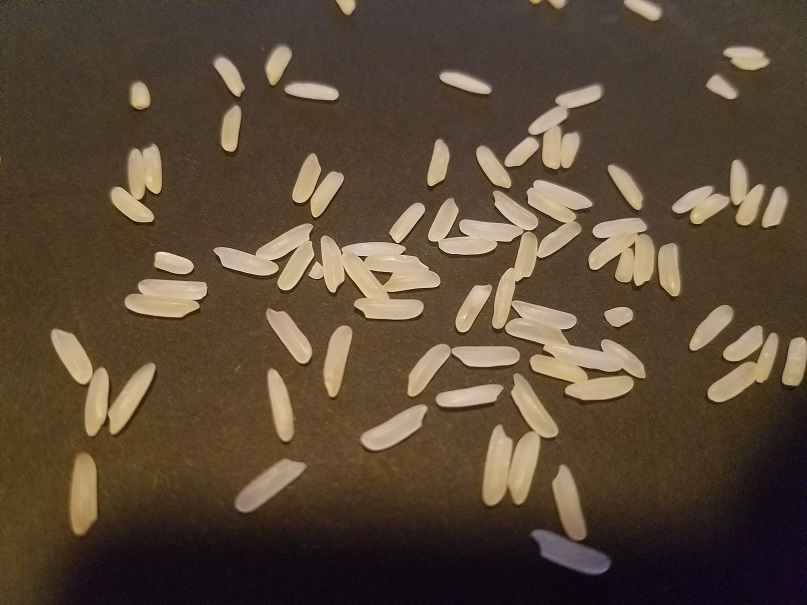egg: (230, 454, 309, 515), (528, 525, 614, 576), (106, 360, 158, 437), (510, 370, 561, 438), (359, 404, 427, 453), (550, 461, 590, 540), (480, 424, 514, 507), (265, 307, 315, 363), (402, 342, 451, 399), (69, 449, 100, 538), (506, 430, 542, 504), (264, 365, 297, 445), (255, 220, 315, 264), (543, 342, 621, 375), (49, 327, 93, 385), (322, 324, 354, 401), (686, 303, 735, 353), (707, 359, 760, 403), (340, 252, 391, 297), (560, 374, 635, 404), (510, 297, 579, 329), (600, 337, 650, 381), (279, 237, 318, 293), (209, 246, 280, 276), (505, 315, 570, 347), (534, 177, 595, 211), (308, 169, 345, 225), (530, 351, 589, 386), (489, 188, 539, 229), (453, 281, 492, 333), (526, 187, 581, 223), (587, 234, 639, 272), (83, 366, 110, 439), (122, 293, 200, 318), (606, 160, 645, 210), (387, 200, 428, 246), (473, 142, 513, 189), (534, 220, 582, 259), (435, 383, 504, 410), (352, 297, 426, 322), (319, 232, 347, 296), (289, 148, 321, 204), (449, 343, 523, 367), (109, 186, 158, 222), (721, 324, 764, 363), (137, 278, 209, 301), (210, 54, 249, 96), (457, 216, 524, 240), (490, 267, 515, 331), (658, 240, 684, 300), (753, 330, 782, 383), (525, 104, 573, 136), (437, 69, 493, 96), (780, 334, 807, 389), (427, 196, 459, 242), (261, 43, 294, 87), (669, 181, 713, 214), (502, 132, 540, 170), (733, 181, 765, 226), (362, 253, 432, 273), (283, 79, 343, 102), (512, 231, 539, 282), (690, 192, 731, 225), (591, 216, 649, 239), (426, 136, 451, 187), (384, 271, 442, 292), (219, 103, 243, 153), (762, 184, 788, 230), (553, 82, 605, 105), (152, 249, 196, 276), (633, 236, 655, 290), (705, 70, 742, 101), (436, 236, 496, 254), (143, 143, 164, 193), (126, 148, 147, 197), (623, 1, 665, 25), (338, 241, 407, 255), (541, 126, 563, 168), (603, 301, 635, 329), (731, 158, 750, 204), (126, 81, 154, 112), (560, 131, 582, 170), (614, 247, 635, 283), (722, 44, 769, 59), (732, 55, 769, 71), (335, 1, 359, 17), (310, 261, 324, 280)
